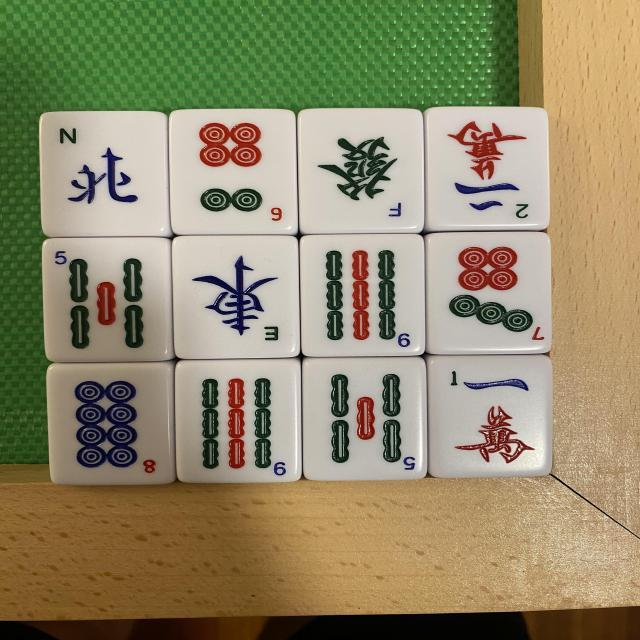hdg: (298, 106, 426, 232)
hwe: (172, 234, 298, 358)
hwn: (47, 114, 172, 240)
sb5: (304, 356, 429, 482), (46, 245, 164, 355)
sb9: (174, 362, 298, 485), (307, 234, 429, 356)
sc1: (429, 357, 553, 479)
sc2: (425, 105, 550, 229)
sd6: (168, 110, 296, 234)
sd7: (423, 230, 546, 354)
sd8: (50, 364, 176, 488)
